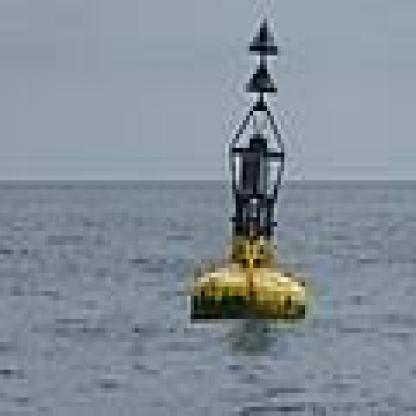buoy: (180, 9, 316, 328)
